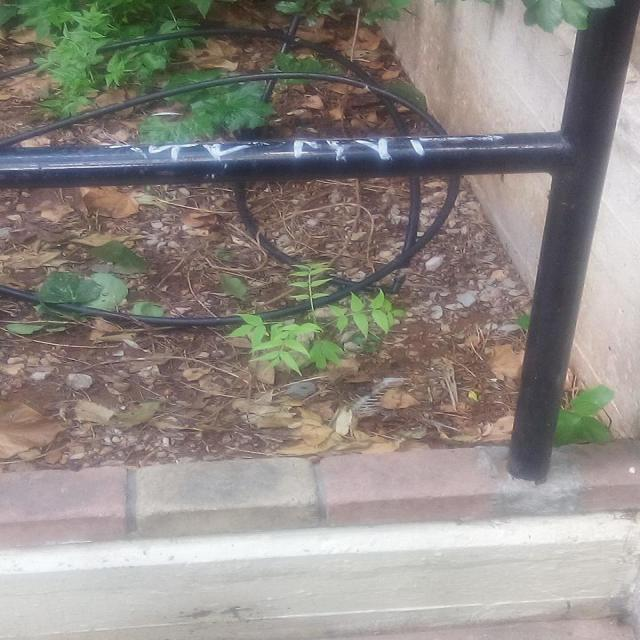nonspitting: (138, 136, 432, 158)
